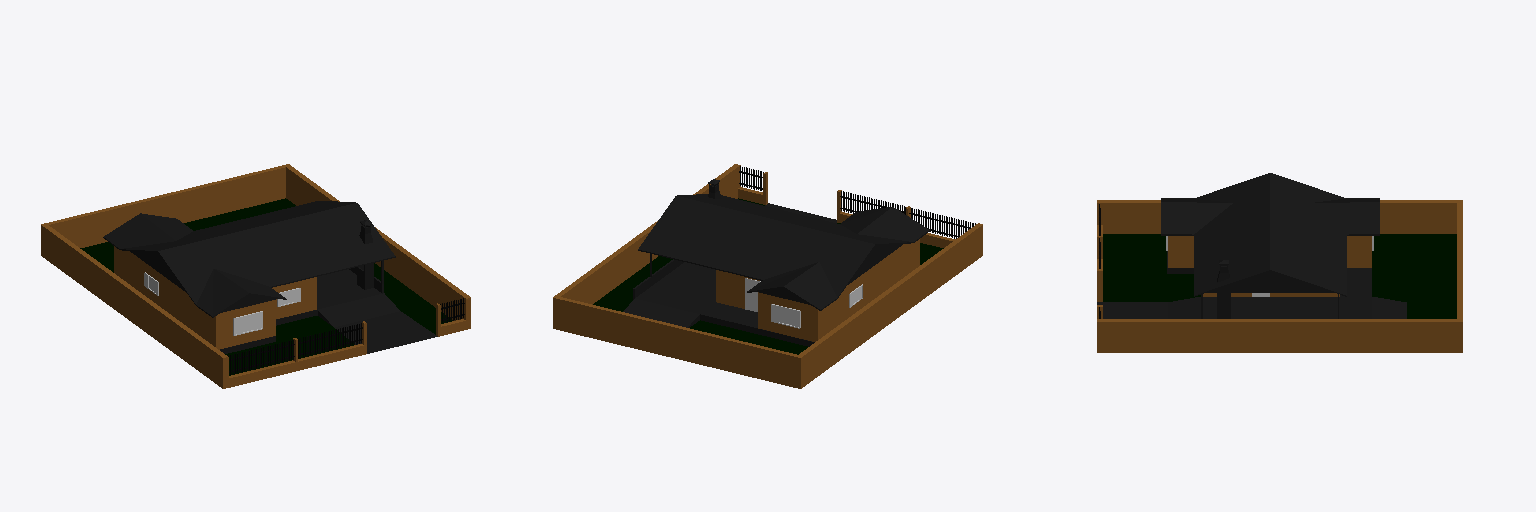
The model's file is Casa.obj.
The picture shows the model from 3 angles: view 1: azimuth 30°, elevation 25°; view 2: azimuth 150°, elevation 25°; view 3: azimuth 270°, elevation 25°; orthographic projection.
Parts seen in each view (by area): view 1: Calçada_Cube.001, Lelhado_Cube, Casa_ID36, Cercas_Cube.017, Janelas_Cube.003, Churrasqueira_Cube.002; view 2: Calçada_Cube.001, Lelhado_Cube, Casa_ID36, Cercas_Cube.017, Janelas_Cube.003; view 3: Calçada_Cube.001, Lelhado_Cube, Casa_ID36, Churrasqueira_Cube.002.
Boxes of the visible parts, x1,y1,x2,y2 form: Calçada_Cube.001: [41, 164, 470, 388]; Lelhado_Cube: [103, 201, 395, 317]; Casa_ID36: [114, 246, 316, 349]; Cercas_Cube.017: [228, 298, 464, 374]; Janelas_Cube.003: [144, 272, 300, 335]; Churrasqueira_Cube.002: [357, 220, 373, 289]; Calçada_Cube.001: [553, 164, 982, 388]; Lelhado_Cube: [638, 194, 929, 310]; Casa_ID36: [716, 239, 919, 341]; Cercas_Cube.017: [739, 166, 975, 238]; Janelas_Cube.003: [745, 278, 862, 328]; Calçada_Cube.001: [1097, 200, 1462, 352]; Lelhado_Cube: [1161, 173, 1379, 296]; Casa_ID36: [1168, 236, 1371, 296]; Churrasqueira_Cube.002: [1217, 260, 1230, 318].
Size of the model in its own units: 16.68 by 4.64 by 21.27.